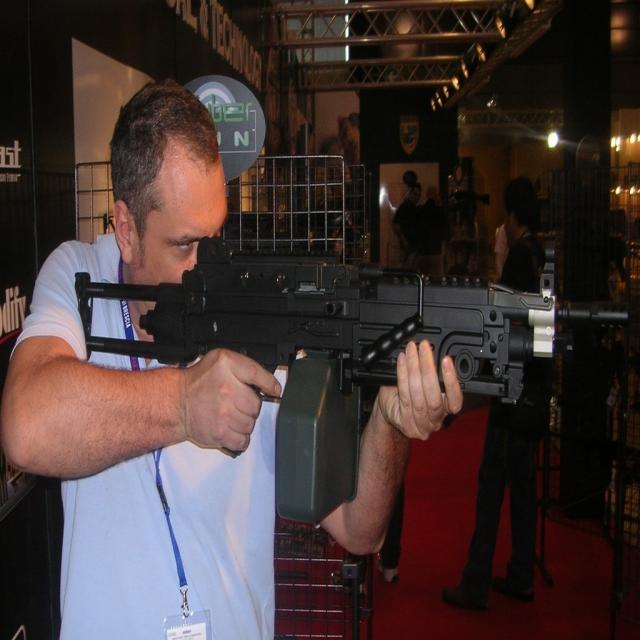weapon: (73, 236, 629, 524)
